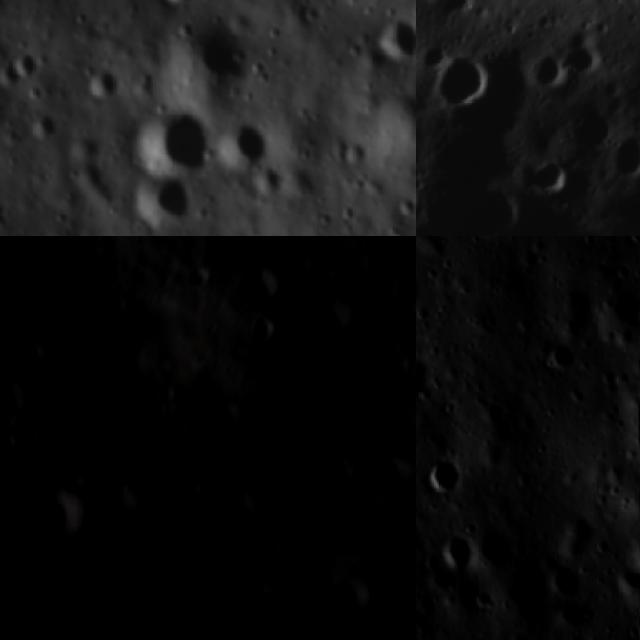crater: (416, 32, 506, 126), (130, 100, 218, 178), (172, 18, 253, 96), (508, 37, 585, 112), (28, 483, 94, 549), (124, 170, 198, 228), (516, 144, 580, 208), (374, 84, 416, 173), (309, 291, 366, 352), (218, 115, 273, 177), (235, 258, 298, 312), (330, 570, 386, 628), (598, 124, 640, 193), (373, 442, 416, 506), (314, 449, 366, 498), (368, 15, 416, 66), (102, 482, 150, 532), (9, 331, 57, 377), (416, 450, 458, 500), (430, 526, 479, 568), (39, 608, 100, 640), (79, 60, 124, 103), (210, 387, 250, 430), (548, 551, 580, 602), (606, 287, 640, 333), (248, 306, 284, 345), (0, 550, 27, 601), (544, 336, 579, 374), (5, 44, 41, 80), (26, 107, 60, 142), (392, 290, 416, 333), (416, 344, 430, 411), (383, 236, 416, 264)
